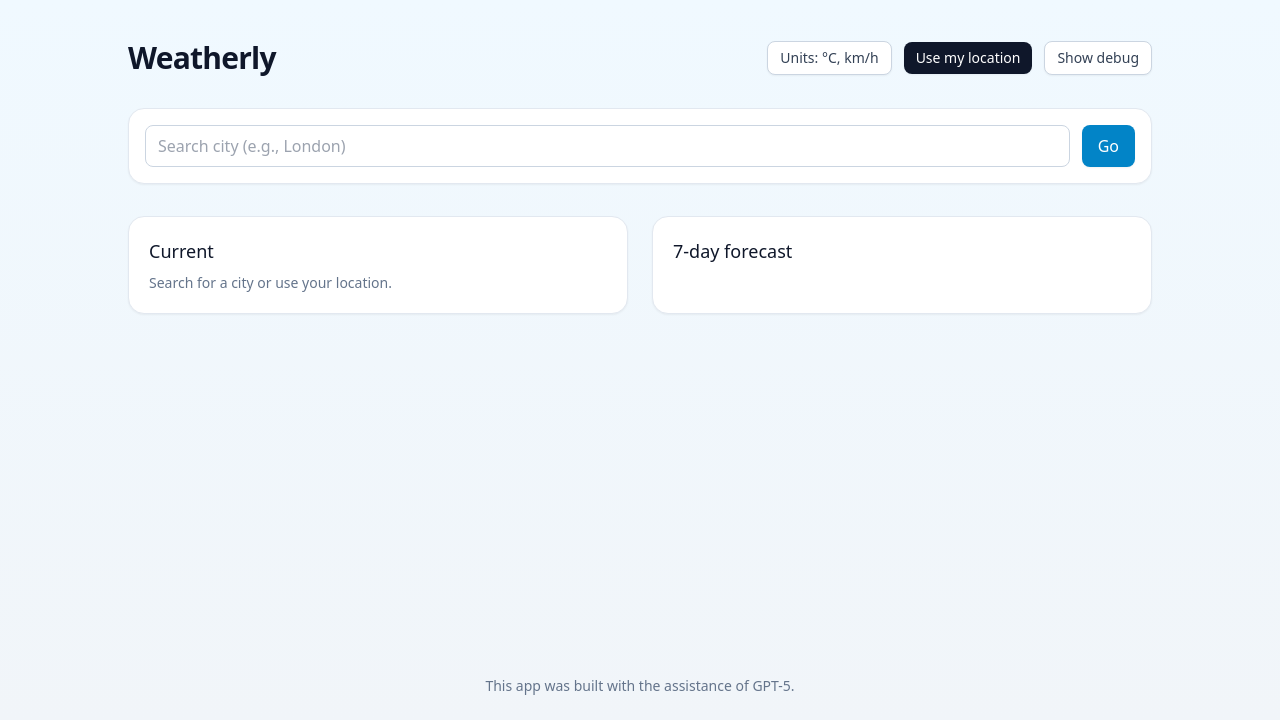
Home page UI › upgrades label via nominatim fallback when open-meteo reverse is empty
This screenshot has width=1280, height=720.
Click the button "Use my location" at (968, 58), box x1=904 y1=42 x2=1032 y2=74
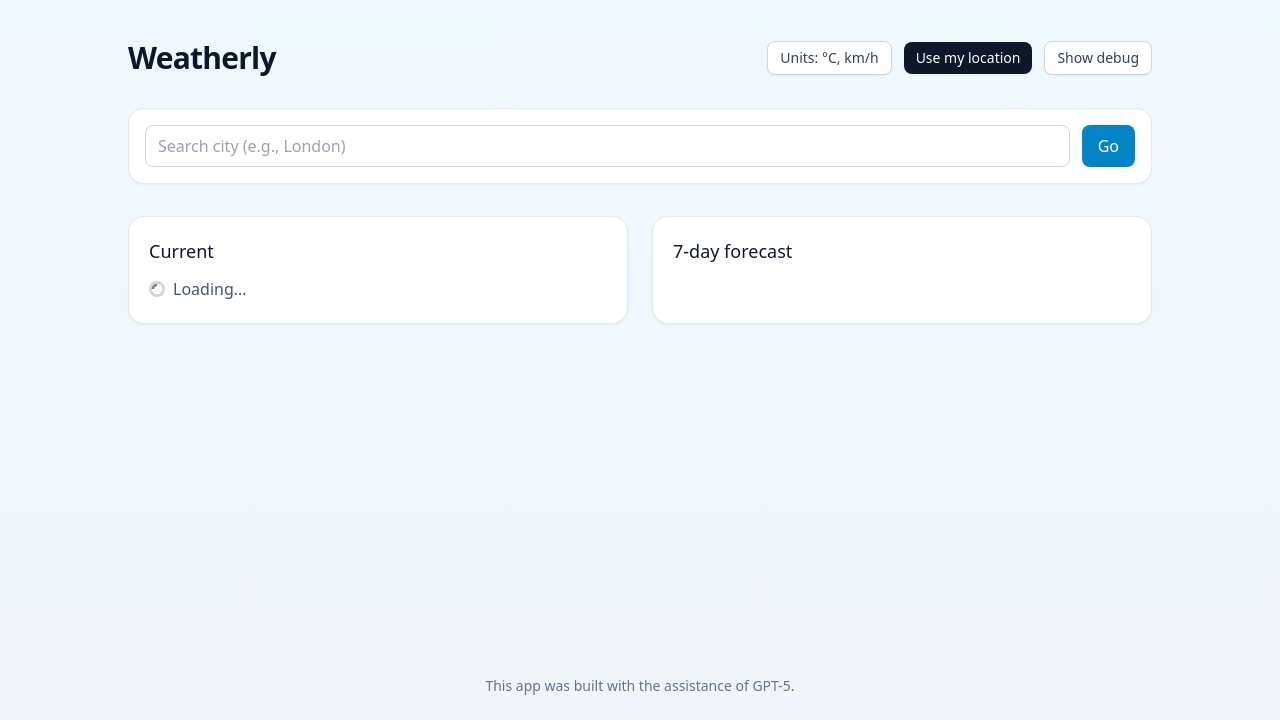
Expected: the heading "Current" is shown, x1=149 y1=239 x2=214 y2=263
Enable debug to ensure reverse fallback executed (optional visibility)
Click the button "Show debug" at (1098, 58), box x1=1044 y1=41 x2=1152 y2=75
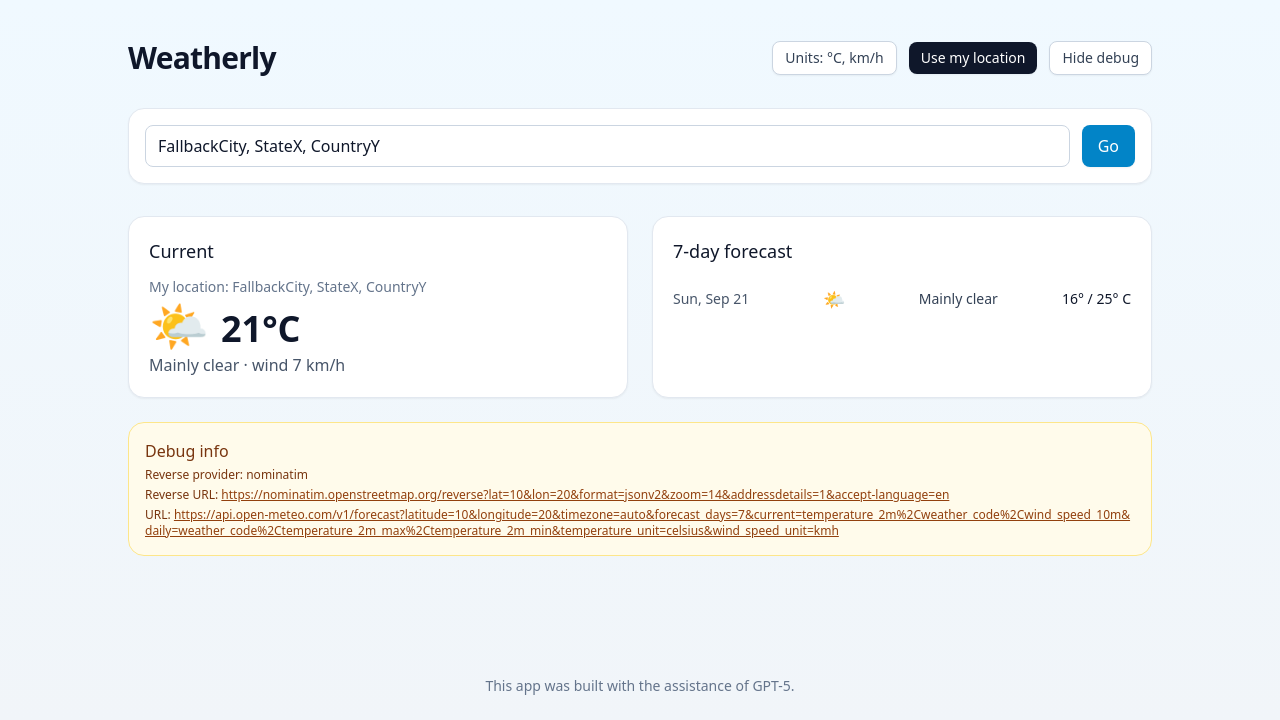
Expected: the text "My location: FallbackCity, StateX, CountryY" is shown, x1=149 y1=277 x2=426 y2=296
